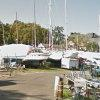Boat: (18, 38, 54, 69)
